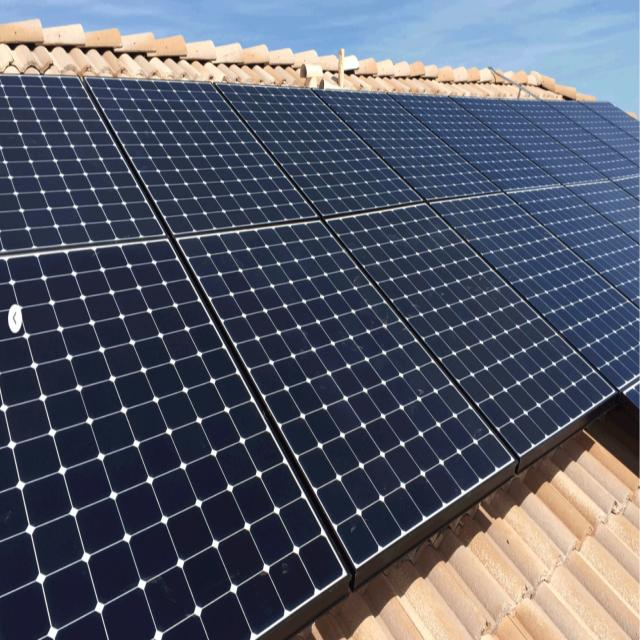clean-solar-panel: (0, 49, 640, 636)
